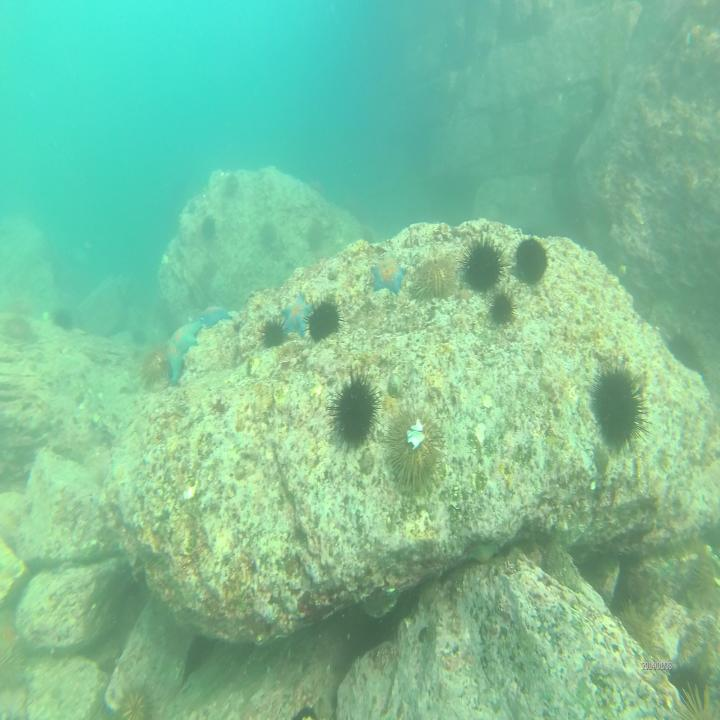echinus: (587, 357, 650, 452), (387, 403, 448, 488), (331, 368, 380, 445), (458, 237, 508, 292), (615, 595, 658, 658), (408, 256, 456, 302), (513, 226, 548, 286), (308, 298, 344, 342), (0, 632, 27, 684), (116, 681, 150, 720), (136, 345, 168, 386), (488, 290, 518, 327), (261, 315, 288, 350), (261, 220, 280, 245), (202, 214, 217, 240), (225, 171, 238, 196)
starfish: (162, 322, 202, 383), (367, 250, 408, 298), (197, 302, 233, 327)
